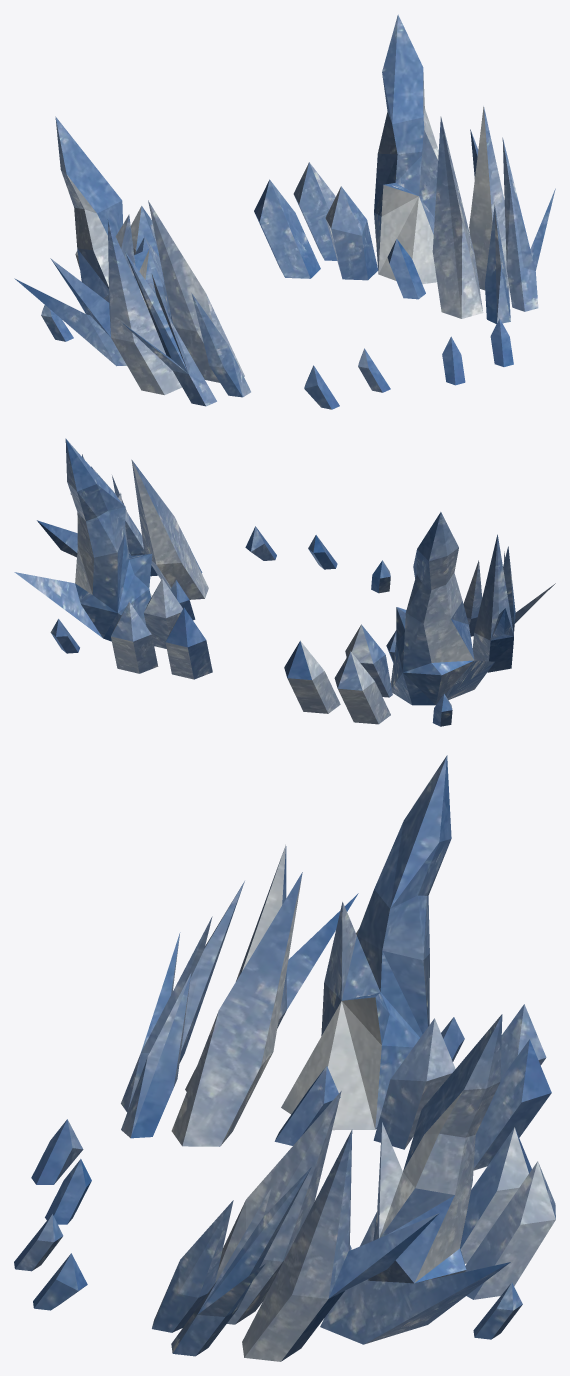
Rendered from winter_lord_spike_aura.glb.
3 renders of one model, top to bottom at view 1: azimuth 30°, elevation 25°; view 2: azimuth 150°, elevation 25°; view 3: azimuth 270°, elevation 25°, orthographic. The views are drawn at different scales.
Parts seen in each view (by area): view 1: aura_winter_lord; view 2: aura_winter_lord; view 3: aura_winter_lord.
Boxes of the visible parts, x1,y1,x2,y2 form: aura_winter_lord: (14, 14, 555, 409); aura_winter_lord: (14, 438, 555, 726); aura_winter_lord: (14, 755, 555, 1361).
Bounding box in the file's own units: 2.71 × 1.18 × 1.78.
1 material, 1 textured.
